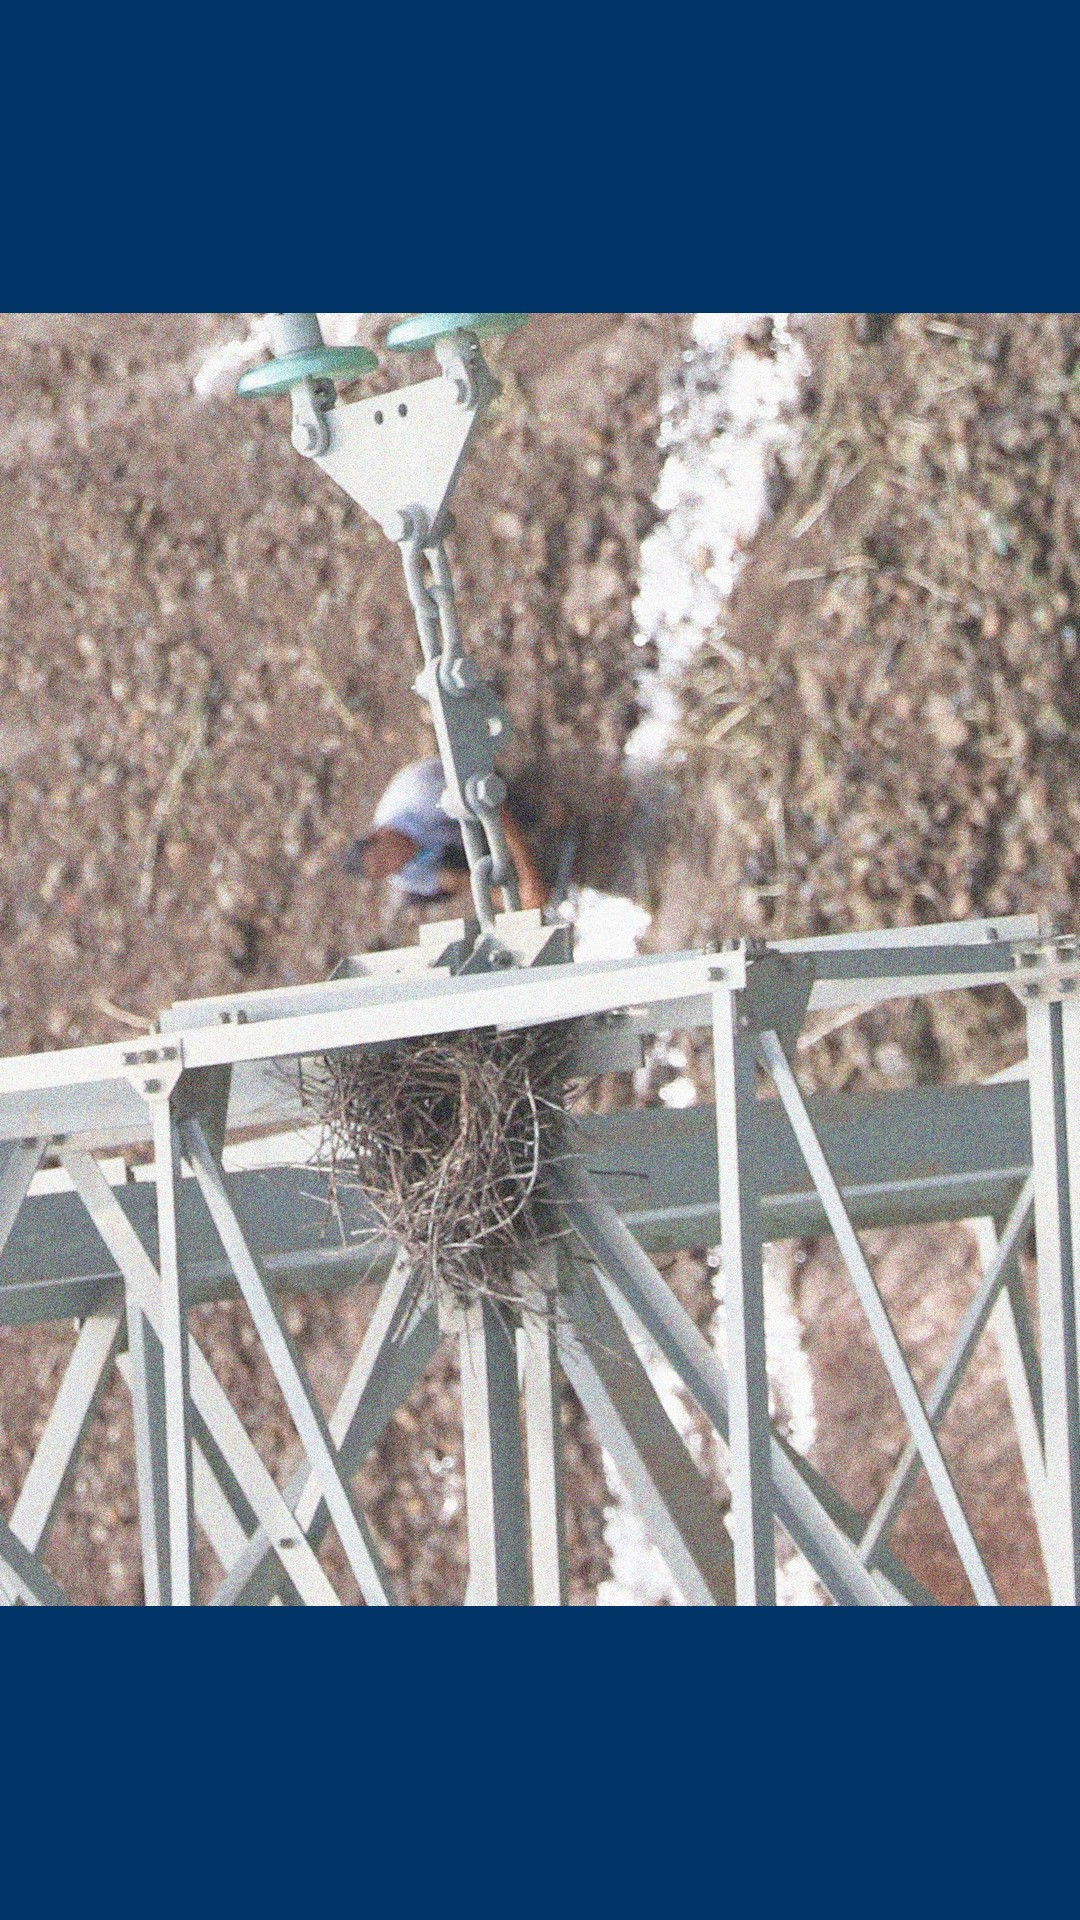niaowo: (270, 998, 641, 1311)
